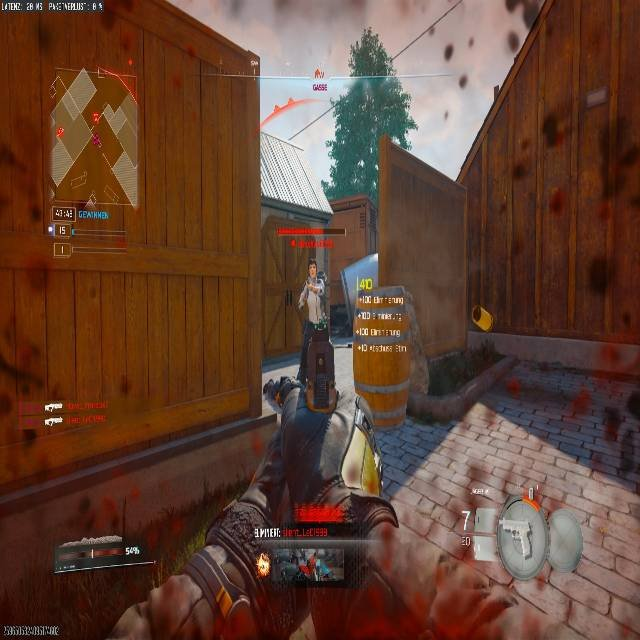head: (307, 258, 317, 273)
player: (297, 257, 327, 321)
